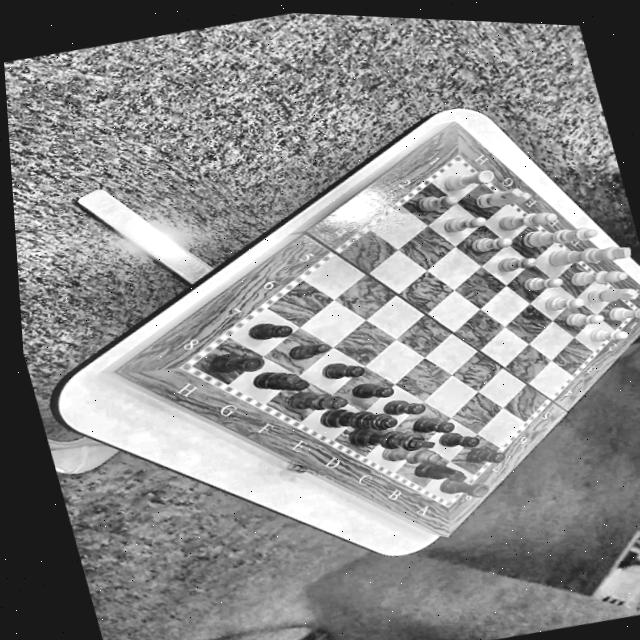chessboard: (190, 161, 636, 499)
